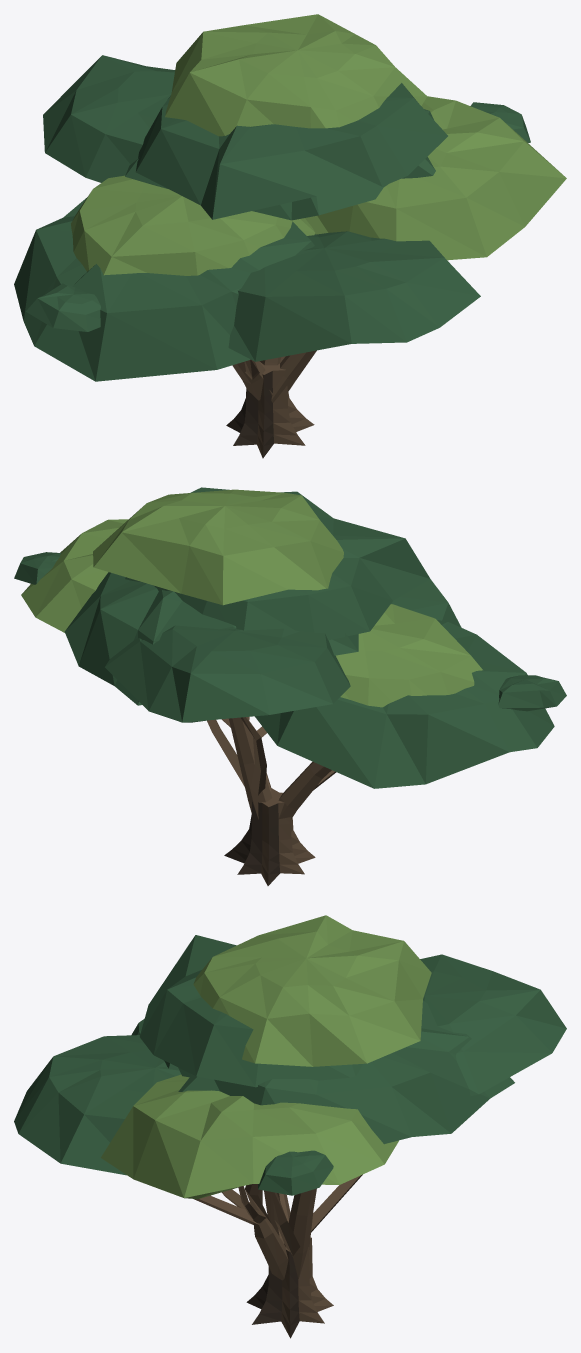
Rendered from japanese-maple-d2fb29.glb.
3 renders of one model, top to bottom at view 1: azimuth 30°, elevation 25°; view 2: azimuth 150°, elevation 25°; view 3: azimuth 270°, elevation 25°, orthographic. The views are drawn at different scales.
Visible parts, largest first — view 1: japanese-maple-crown-mesh, japanese-maple-trunk; view 2: japanese-maple-crown-mesh, japanese-maple-trunk; view 3: japanese-maple-crown-mesh, japanese-maple-trunk.
Part boxes in pixels (<box>): japanese-maple-crown-mesh: <box>14,14,566,402</box>; japanese-maple-trunk: <box>226,361,314,458</box>; japanese-maple-crown-mesh: <box>14,487,566,819</box>; japanese-maple-trunk: <box>224,788,315,885</box>; japanese-maple-crown-mesh: <box>14,915,566,1280</box>; japanese-maple-trunk: <box>246,1237,333,1338</box>.
Bounding box in the file's own units: 4.47 × 2.99 × 3.99.
